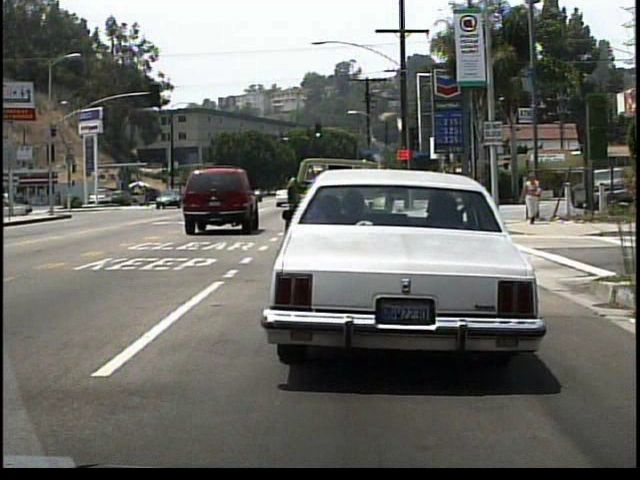person: (523, 172, 542, 229)
